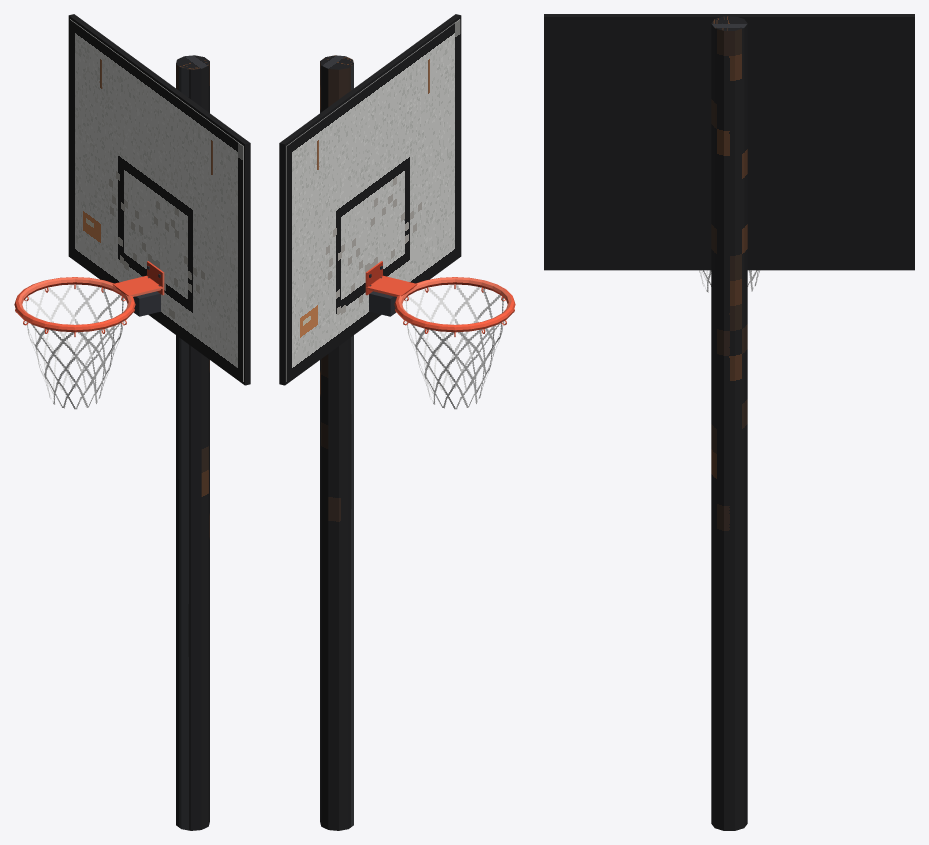
Rendered from hoop.glb.
The picture shows the model from 3 angles, left to right: view 1: azimuth 30°, elevation 25°; view 2: azimuth 150°, elevation 25°; view 3: azimuth 270°, elevation 25°; orthographic projection. The views are drawn at different scales.
Parts seen in each view (by area): view 1: Backboard, Pole, BoardBand, Net, Rim, NeckTongue, SpringBox; view 2: Backboard, Pole, BoardBand, Net, Rim, NeckTongue, SpringBox; view 3: BoardBand, Pole.
Part boxes in pixels (left/top/right/bottom): Backboard: left=69, top=19, right=243, bottom=381; Pole: left=176, top=55, right=209, bottom=830; BoardBand: left=68, top=14, right=250, bottom=385; Net: left=25, top=284, right=124, bottom=409; Rim: left=14, top=277, right=135, bottom=332; NeckTongue: left=112, top=275, right=164, bottom=296; SpringBox: left=133, top=291, right=160, bottom=316; Backboard: left=286, top=19, right=460, bottom=381; Pole: left=320, top=55, right=353, bottom=830; BoardBand: left=279, top=14, right=461, bottom=385; Net: left=405, top=284, right=504, bottom=409; Rim: left=394, top=277, right=515, bottom=332; NeckTongue: left=365, top=275, right=417, bottom=296; SpringBox: left=369, top=291, right=396, bottom=316; BoardBand: left=544, top=14, right=914, bottom=270; Pole: left=711, top=16, right=747, bottom=830.
Bounding box in the file's own units: 0.8608 × 3.39 × 1.42.
8 materials, 4 textured.
